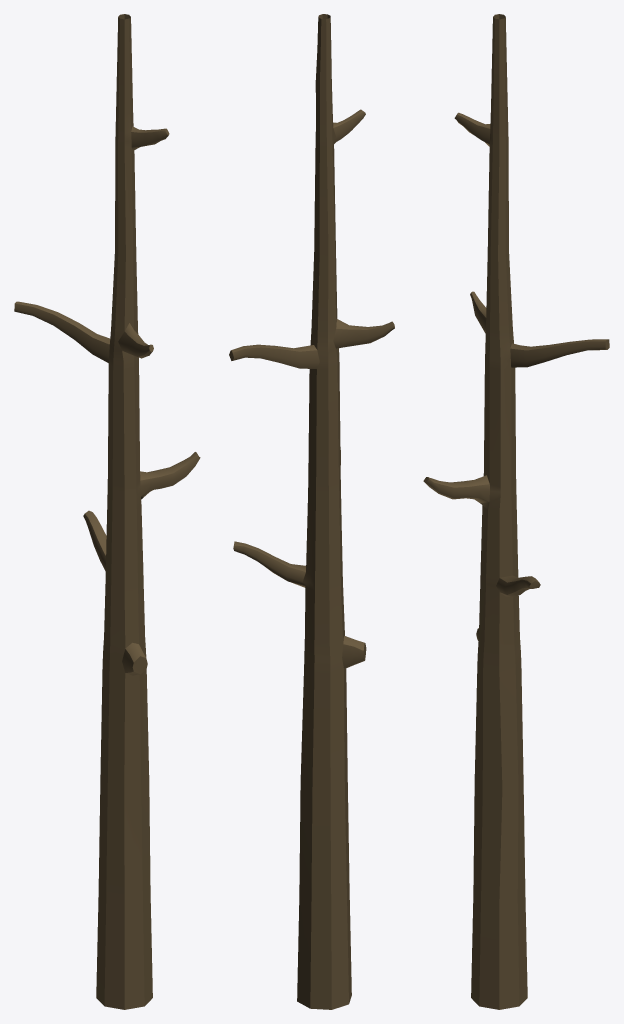
Rendered from Arbol_02_UVs.fbx.
The picture shows the model from 3 angles, left to right: view 1: azimuth 90°, elevation 25°; view 2: azimuth 150°, elevation 25°; view 3: azimuth 270°, elevation 25°; orthographic projection.
Visible parts, largest first — view 1: polySurface1; view 2: polySurface1; view 3: polySurface1.
Part boxes in pixels (<box>): polySurface1: <box>14,14,200,1009</box>; polySurface1: <box>229,14,394,1009</box>; polySurface1: <box>423,14,609,1009</box>.
Bounding box in the file's own units: 0.717 × 5.16 × 0.8871.
